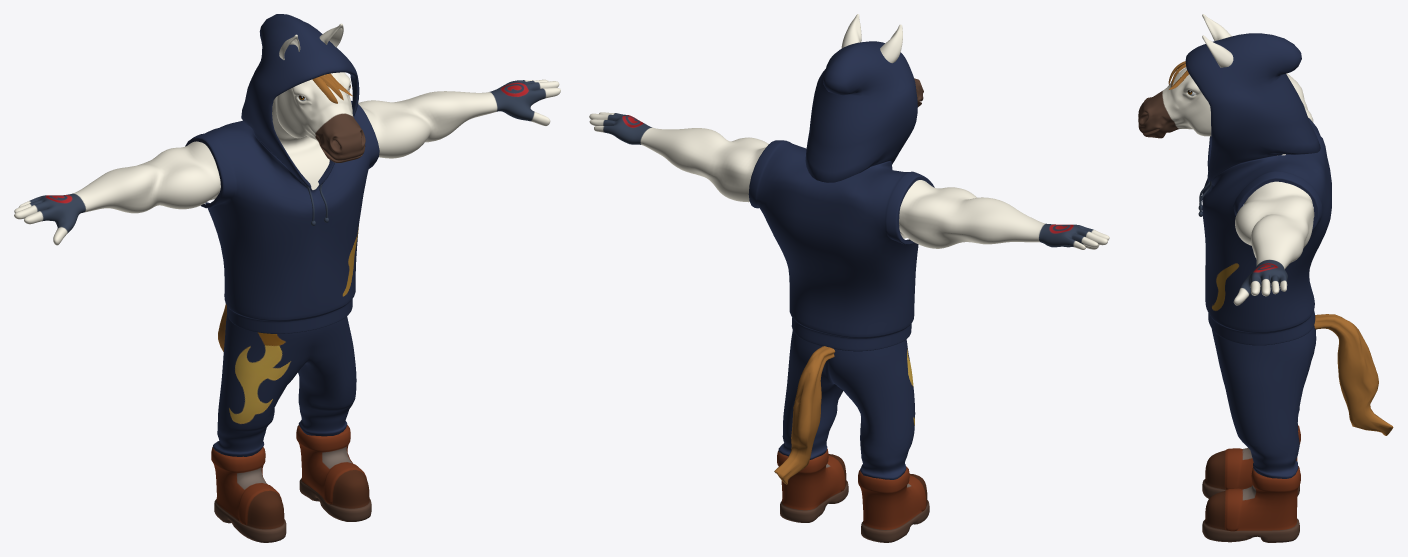
The model's file is BTCDerby2.glb.
The picture shows the model from 3 angles, left to right: view 1: azimuth 30°, elevation 25°; view 2: azimuth 150°, elevation 25°; view 3: azimuth 270°, elevation 25°; orthographic projection. The views are drawn at different scales.
Parts seen in each view (by area): view 1: polySurface19; view 2: polySurface19; view 3: polySurface19.
Boxes of the visible parts, box(x1,y1,x2,y2) form: polySurface19: box(14, 14, 560, 542); polySurface19: box(589, 14, 1109, 542); polySurface19: box(1138, 14, 1393, 542).
Size of the model in its own units: 2.08 by 1.84 by 0.8685.
1 material, 1 textured.
